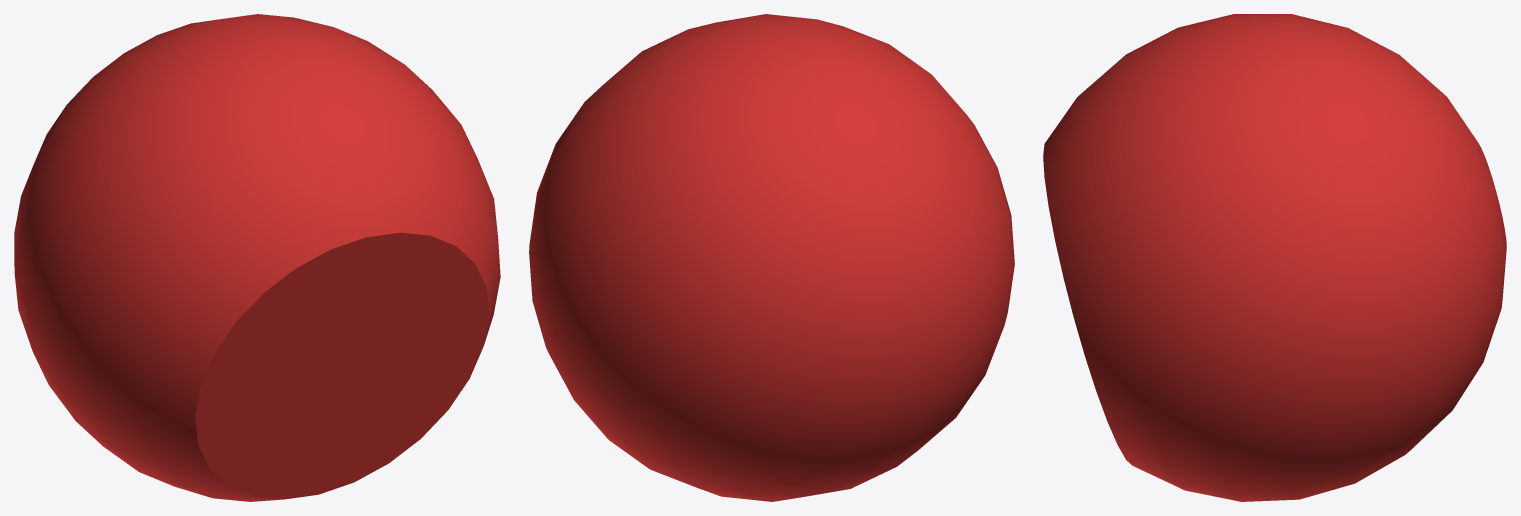
Rendered from Cosmetic_Clown_Nose_v4.glb.
3 renders of one model, left to right at view 1: azimuth 30°, elevation 25°; view 2: azimuth 150°, elevation 25°; view 3: azimuth 270°, elevation 25°, orthographic.
Parts seen in each view (by area): view 1: Clown_Nose; view 2: Clown_Nose; view 3: Clown_Nose.
Boxes of the visible parts, x1,y1,x2,y2 form: Clown_Nose: (14,14,500,501); Clown_Nose: (529,14,1014,501); Clown_Nose: (1043,14,1506,501).
Bounding box in the file's own units: 0.1087 × 0.1097 × 0.1039.
